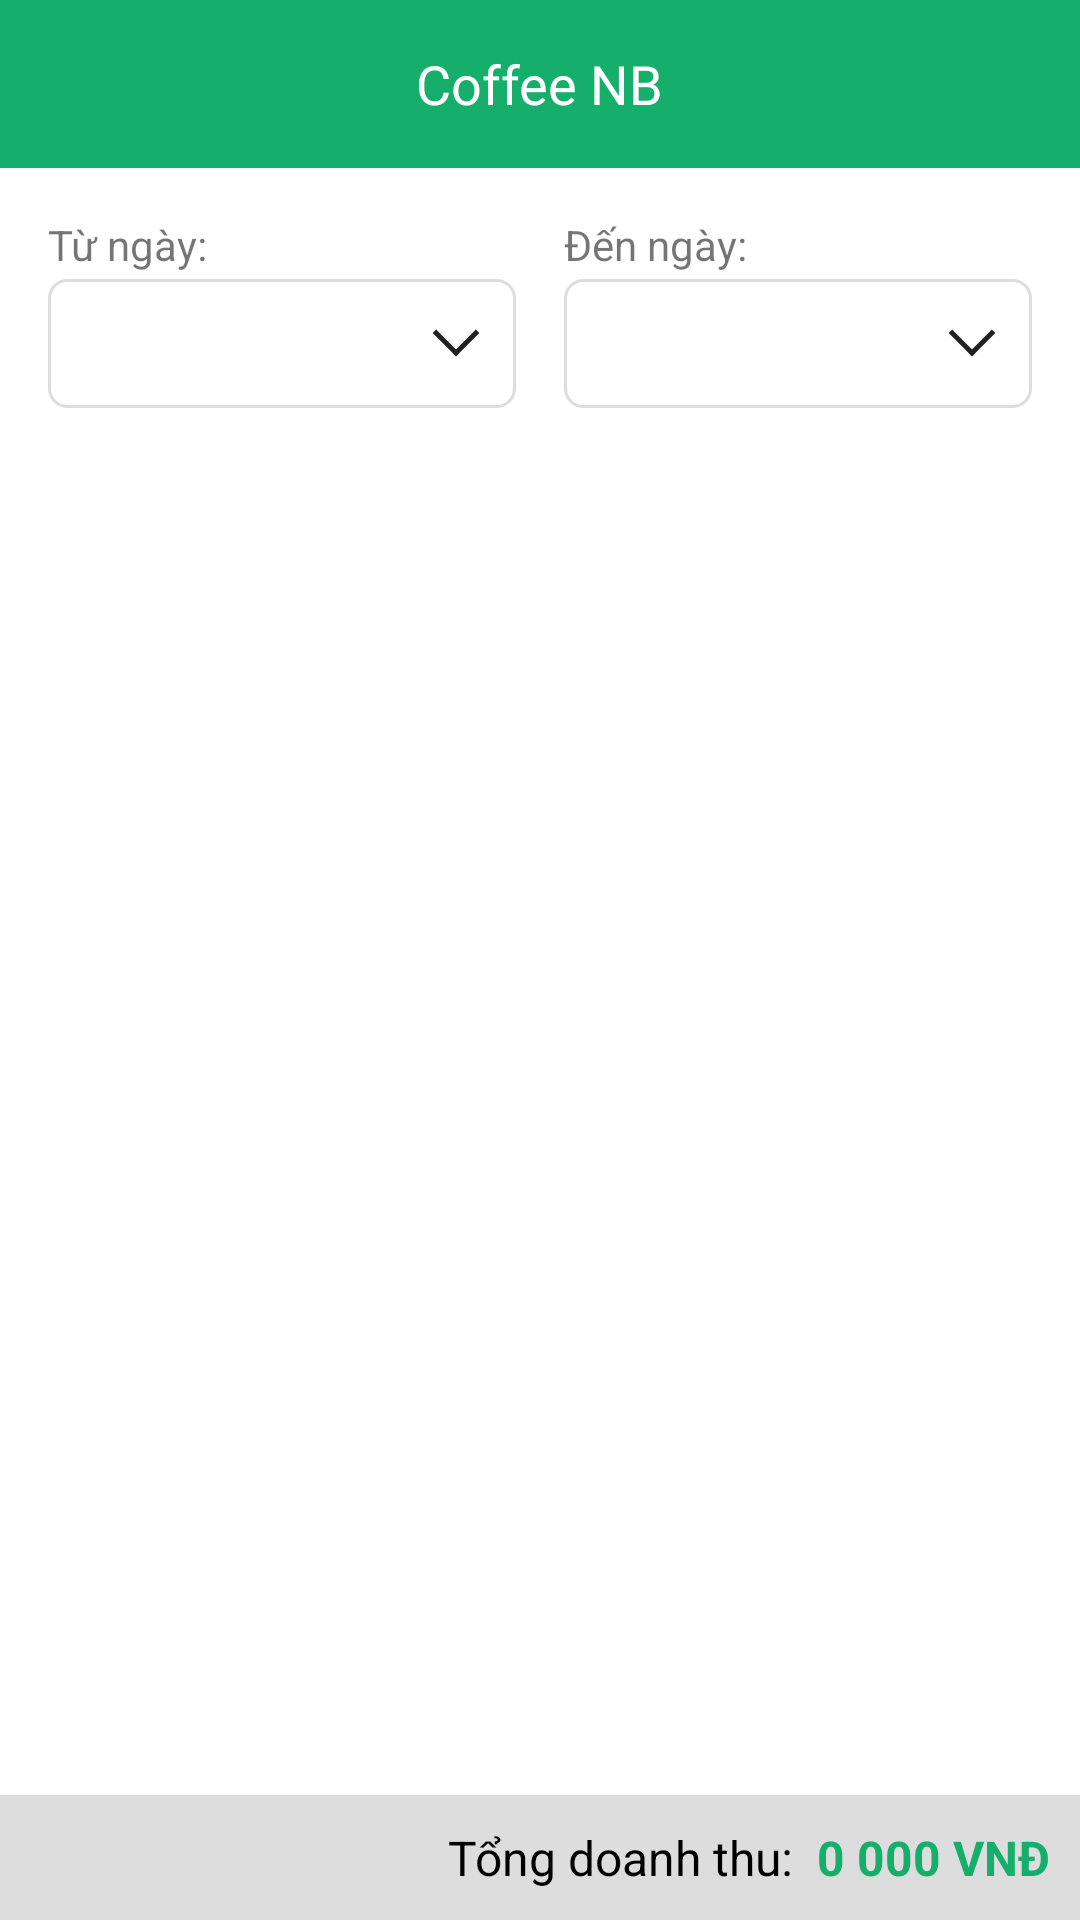

Icons on this 1080x1920 Android screen, each with its box as [x1,y1,x2,y2]:
arrow down: [433,329,479,357], [949,329,995,357]
